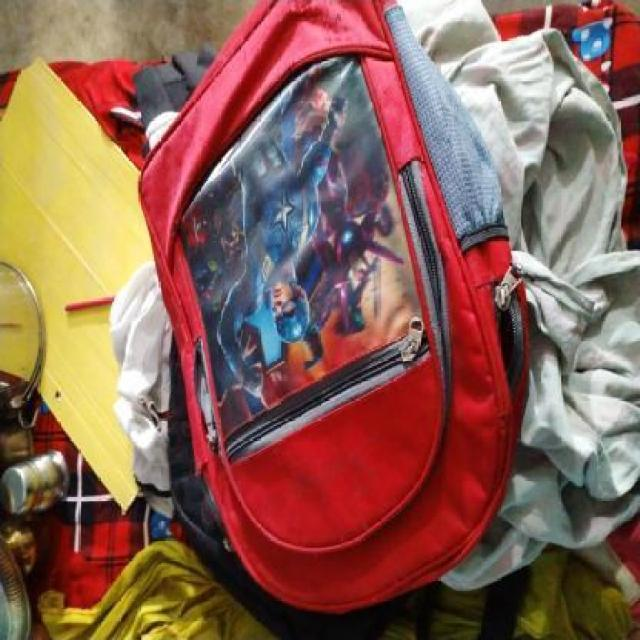backpack: (131, 0, 535, 617)
